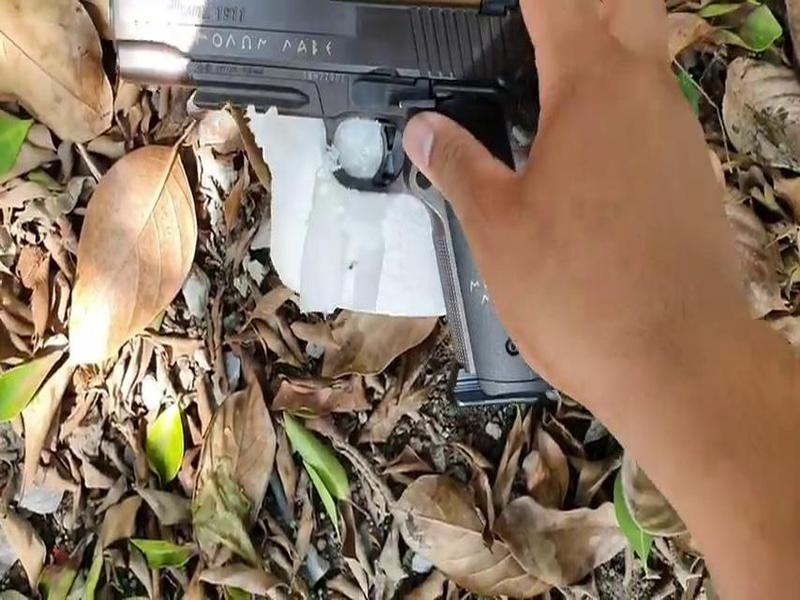Pistola: (102, 1, 584, 416)
